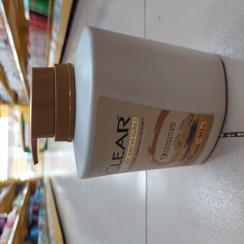clear: (24, 23, 230, 187)
